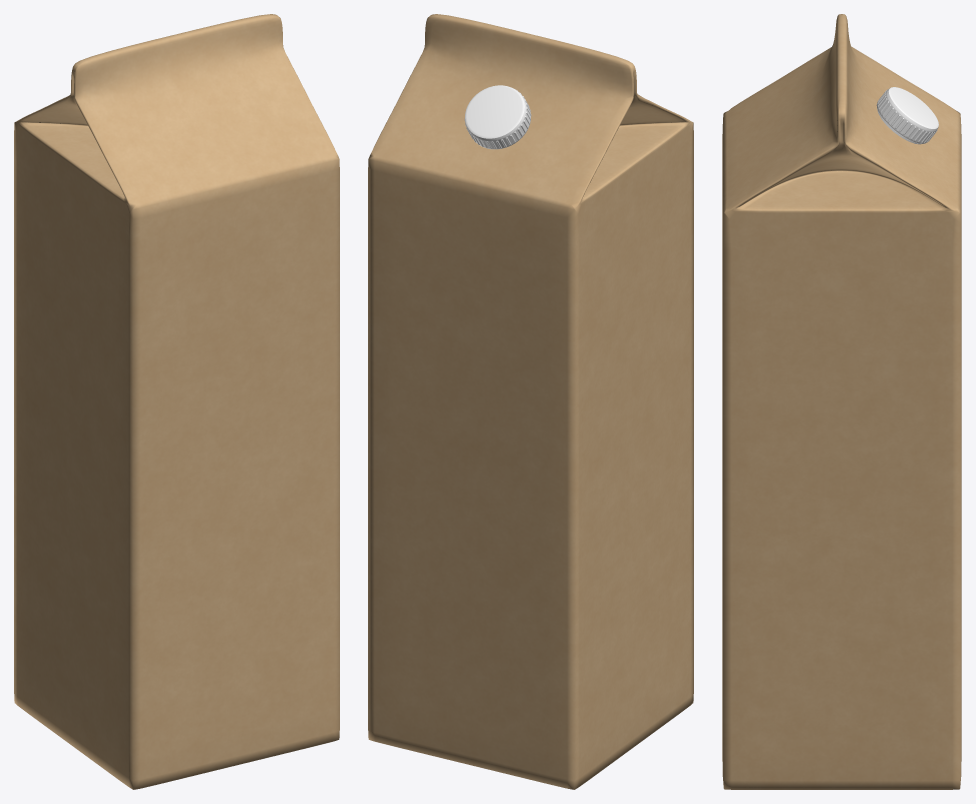
File: tetra-pak-carton.obj
3 views of the same model, side by side, from view 1: azimuth 30°, elevation 25°; view 2: azimuth 150°, elevation 25°; view 3: azimuth 270°, elevation 25° (orthographic).
Visible parts, largest first — view 1: brics; view 2: brics; view 3: brics.
Boxes of the visible parts, x1,y1,x2,y2 form: brics: (14, 14, 339, 789); brics: (368, 14, 693, 789); brics: (722, 14, 961, 789).
Bounding box in the file's own units: 0.06 × 0.1888 × 0.06.
1 material, 1 textured.
